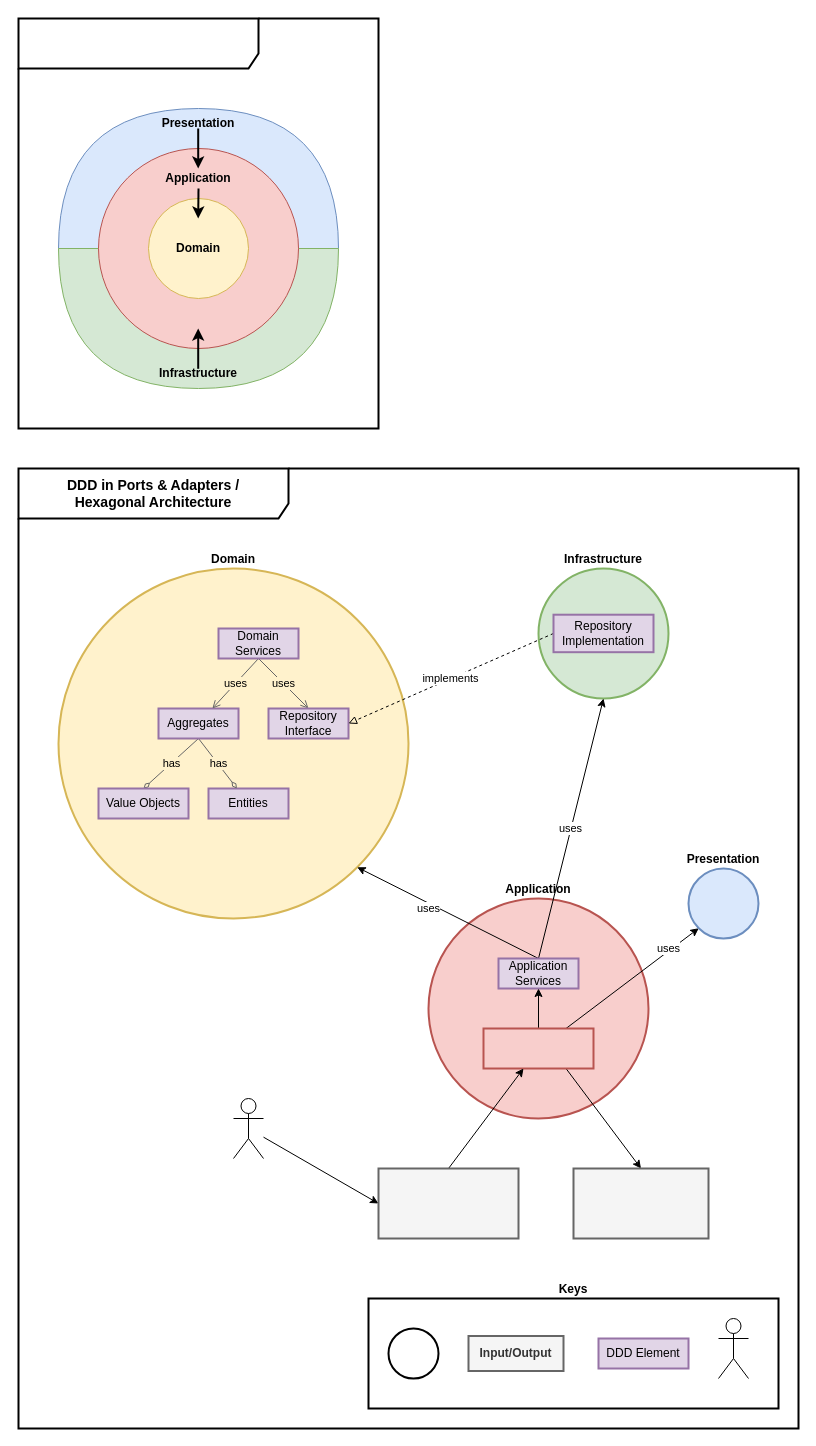
The diagram is 816 pixels wide and 1446 high, and some of its shapes have lost their labels. The centre of each missing label's shape, as x and y in pixels:
Actor: [733,1348]
Client: [248,1128]
Controllers or Handlers: [538,1048]
Input Command & Query HTTP Requests Message, etc: [448,1203]
Layer: [413,1353]
Layers in Ports & Adapters / Hexagonal Architecture: [198,223]
Output HTTP, Email, Messags, HTML, JSON, etc..: [640,1203]
